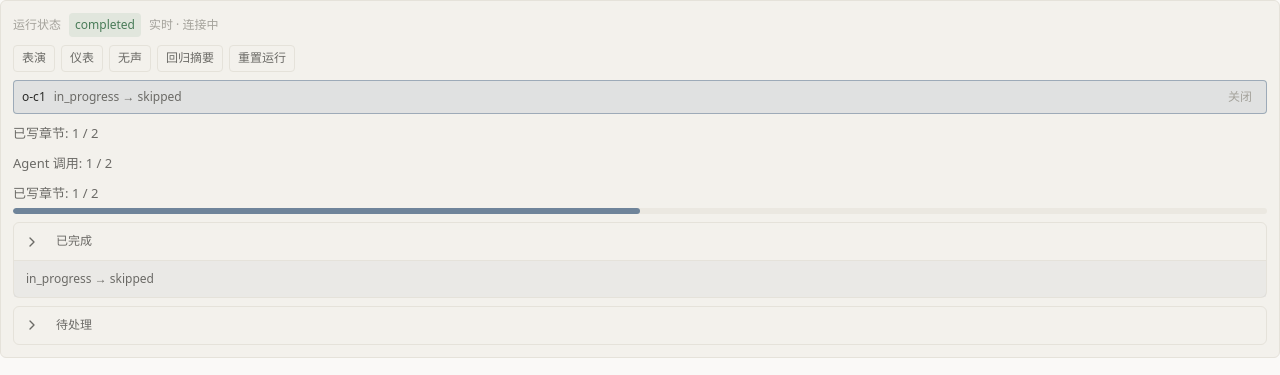
BookRunPanel — 阶段4 干预工具栏 + 密度切换 + 摘要面板 + diff banner（#338 S4b） › interveneDiff 非空 → run-diff-banner 显示（target + 变更文本）+ run-diff-close 关闭
Expected: the element with test id "run-diff-banner" shows "o-c1", [22,88,46,105]
Expected: the element with test id "run-diff-banner" shows "skipped", [54,88,182,105]
Click the button with test id "run-diff-close".
click(1240, 97)  # box [1222,85,1258,109]
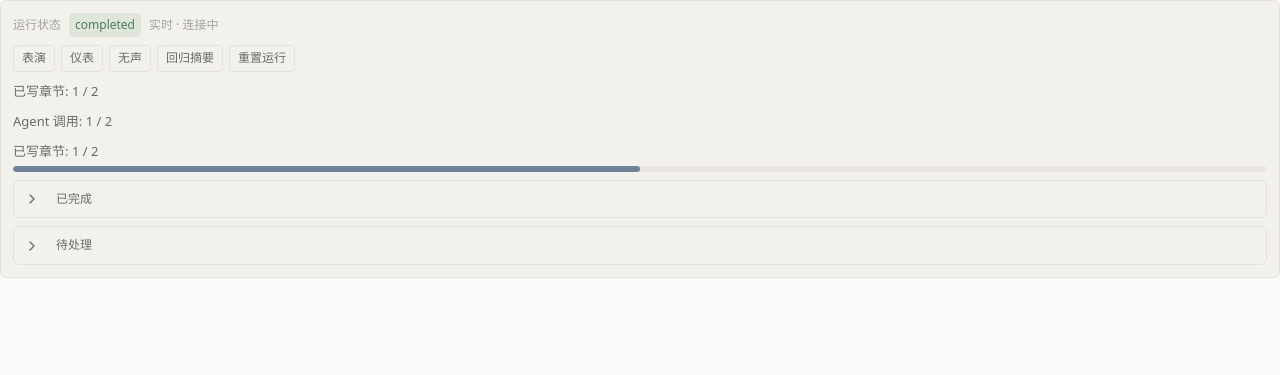
Now the element with test id "run-diff-banner" is gone
